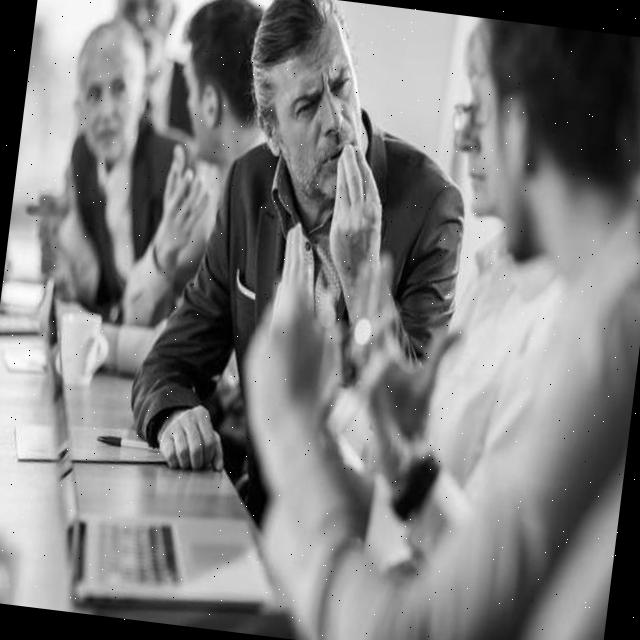Angry: (257, 18, 377, 200)
